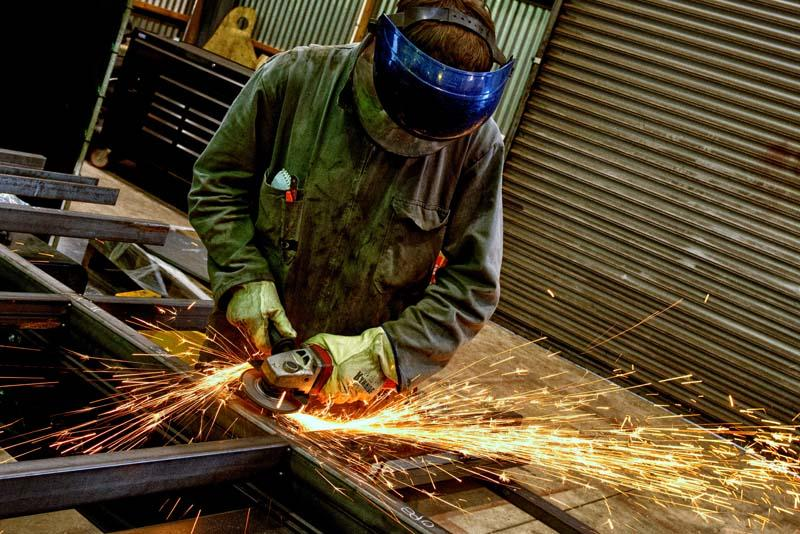controlled_fire: (60, 342, 704, 485)
